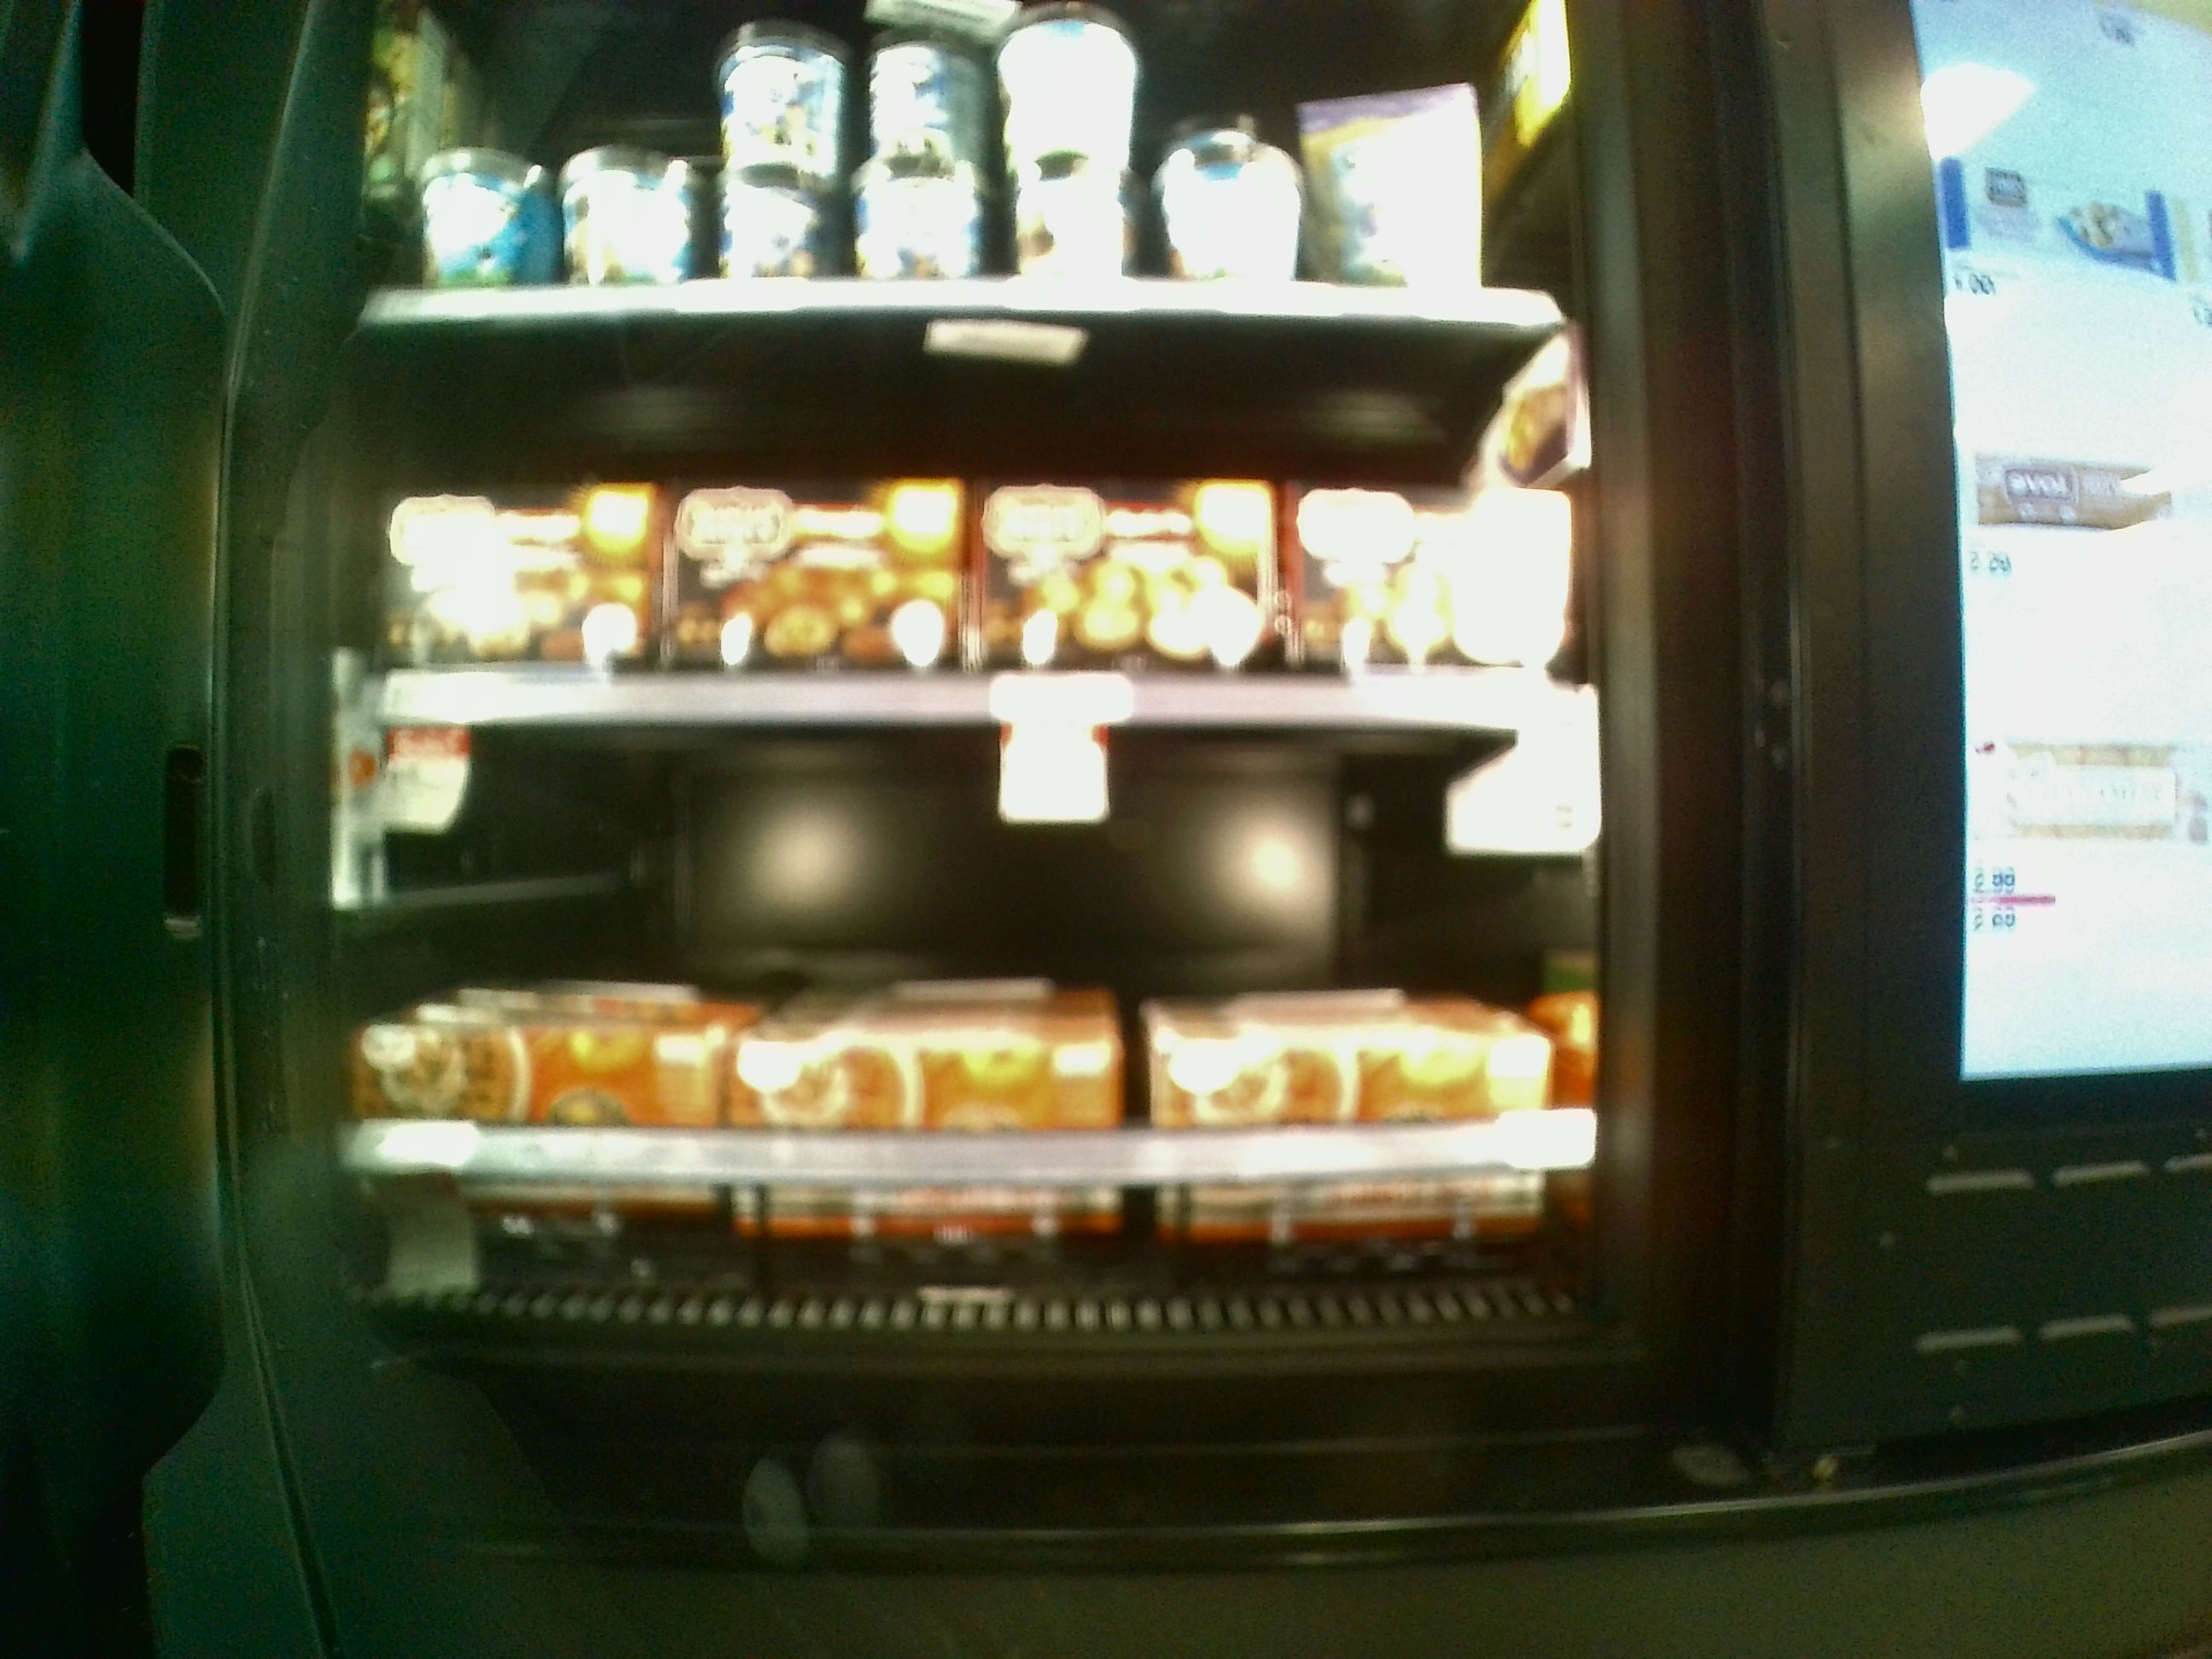shelf: (275, 716, 1634, 1363), (308, 314, 1615, 721)
